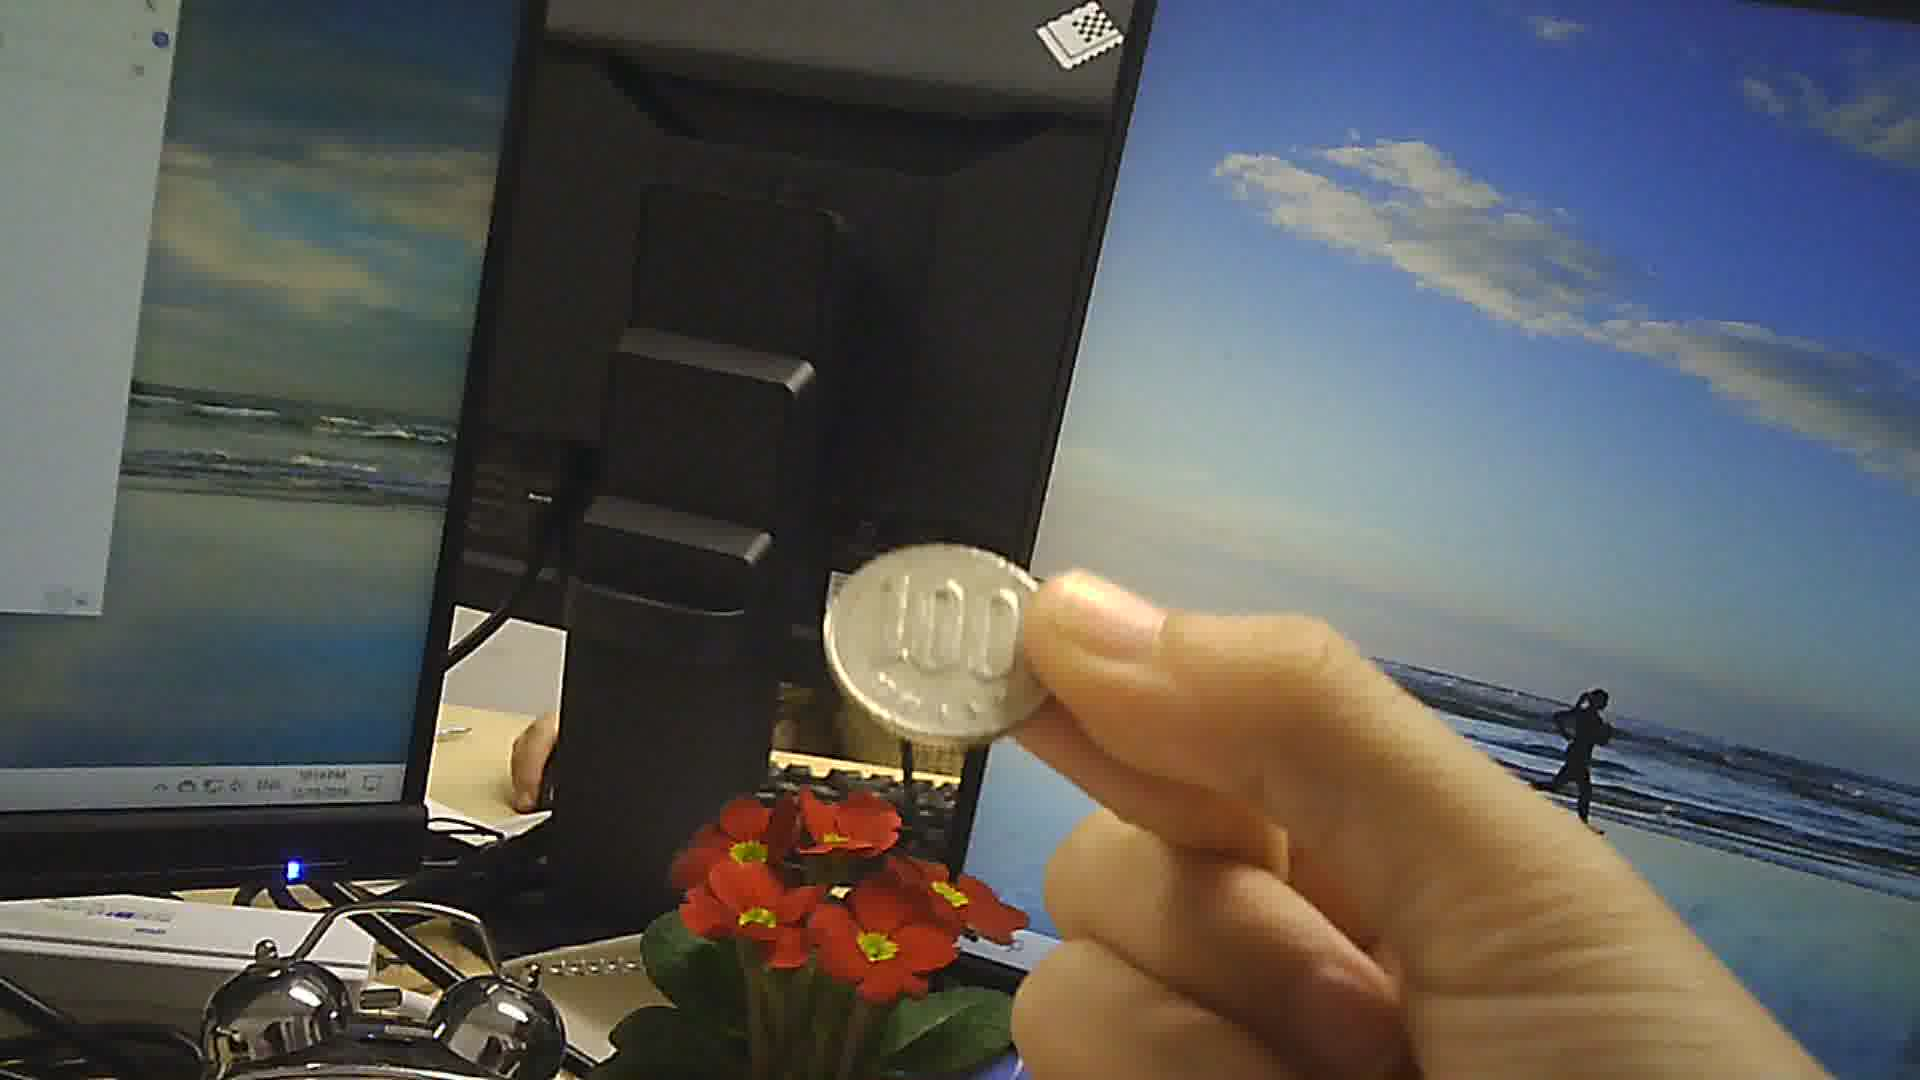100 Yen: (820, 530, 1060, 740)
